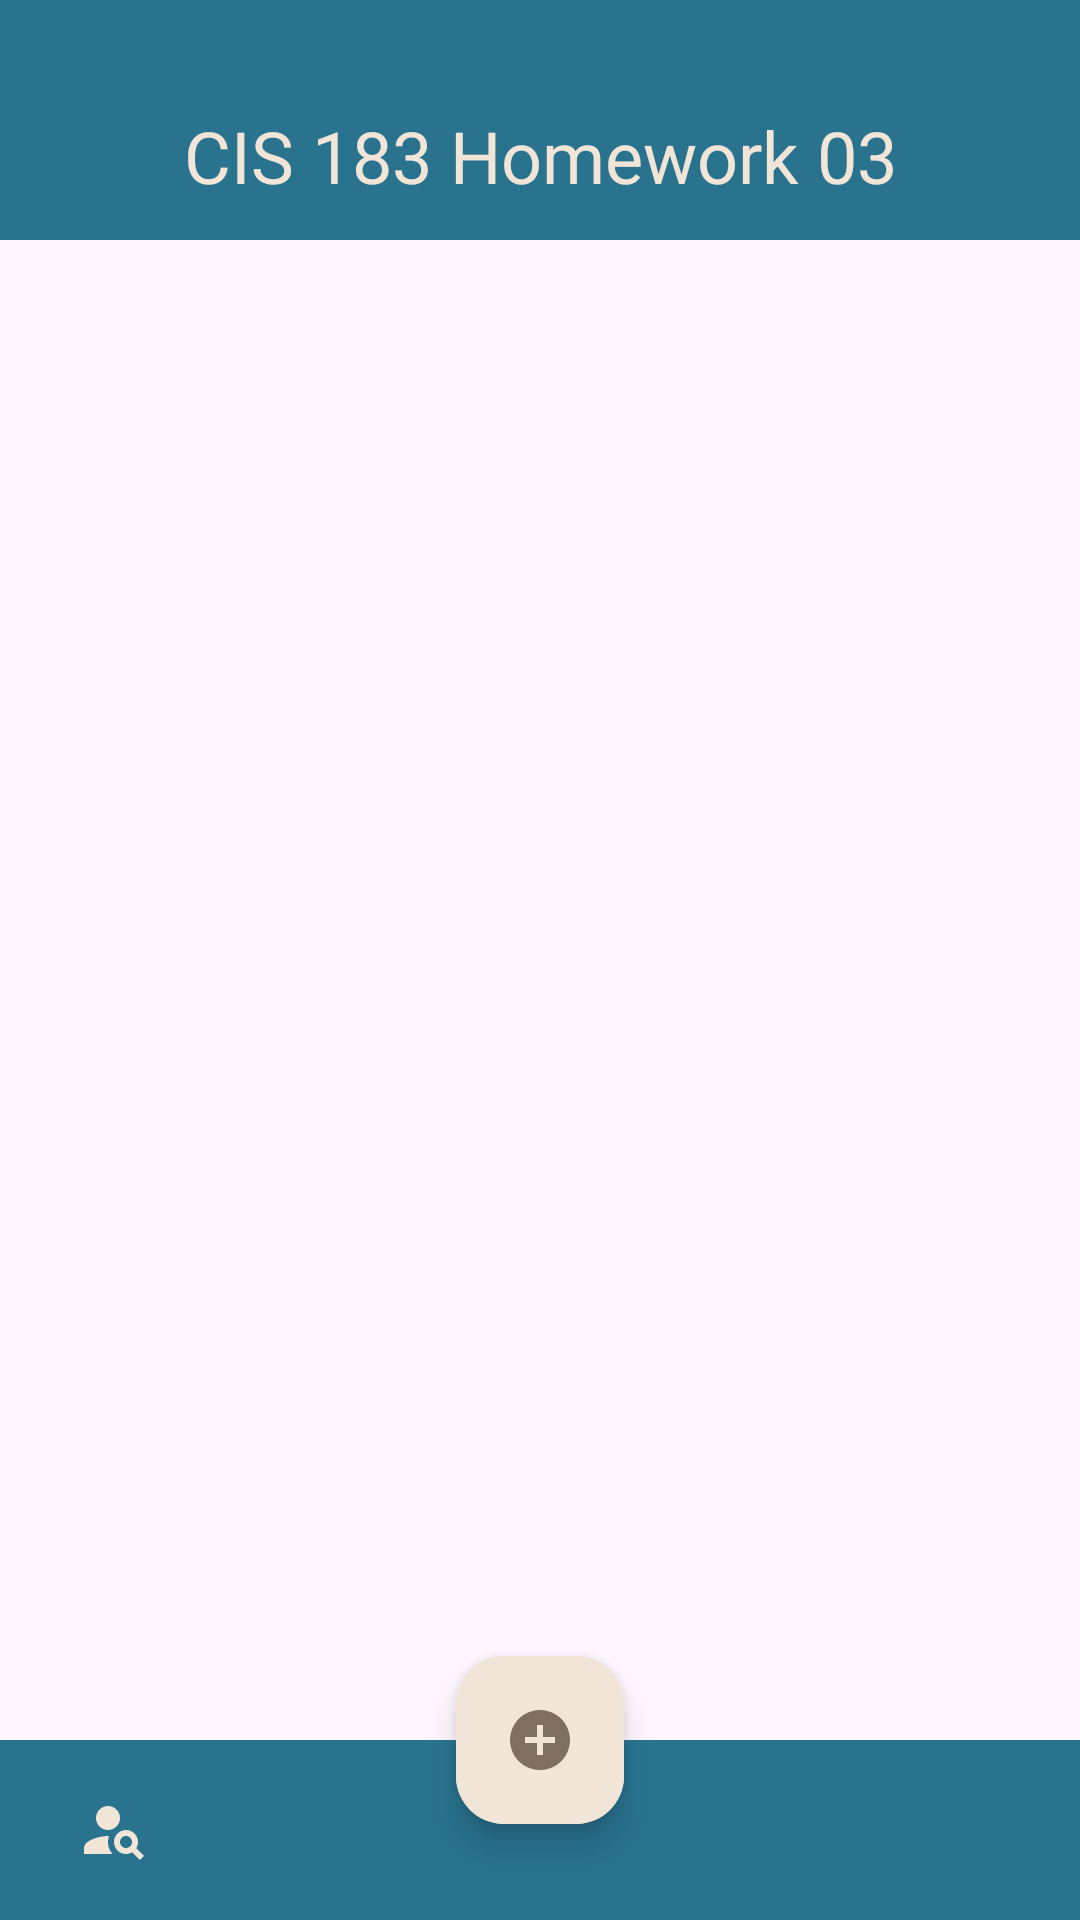

Named icons in this screenshot (1080×1920) and their centers, (x=x, y=y):
add circle: (x=540, y=1740)
person search: (x=114, y=1833)
